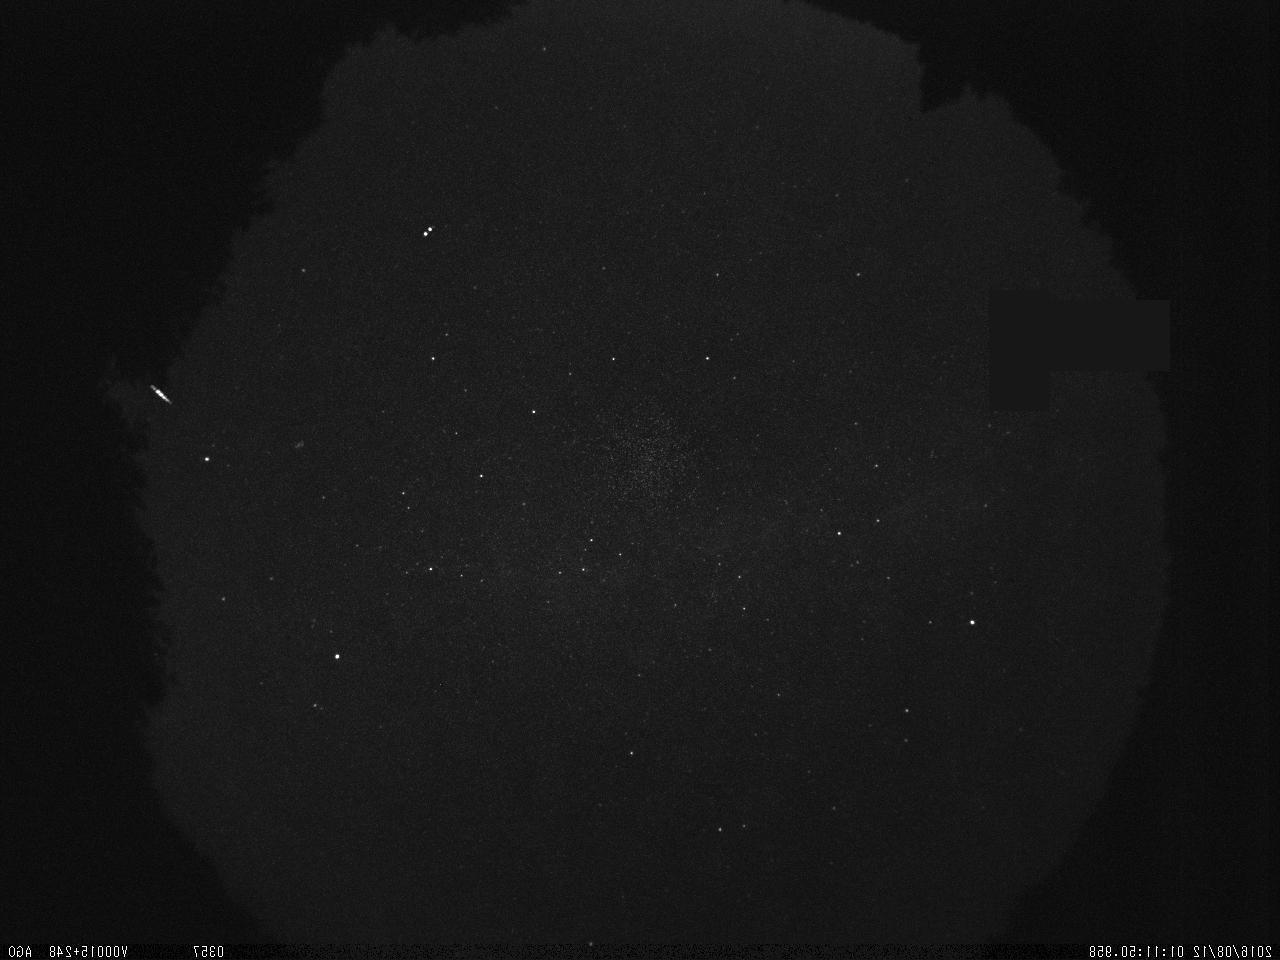meteor: (136, 374, 177, 408)
satelite: (416, 217, 439, 243)
